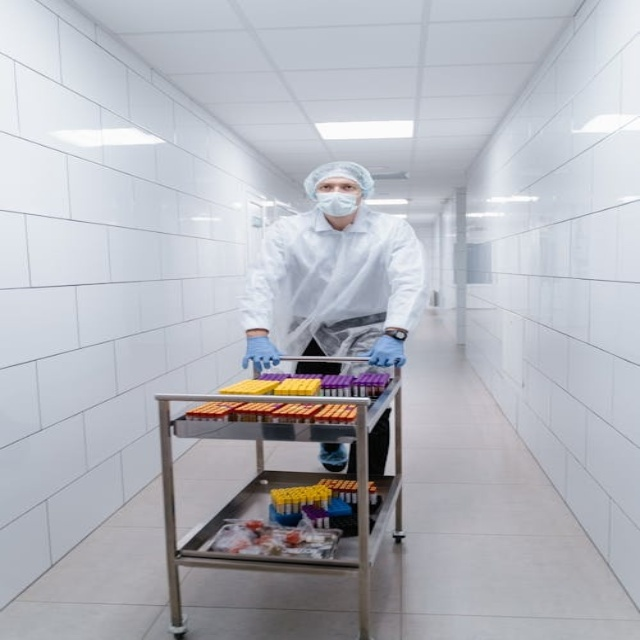Guantes: (243, 336, 283, 373), (366, 334, 406, 368)
Mascara: (314, 190, 360, 217)
Sin_gafas: (316, 184, 361, 195)
